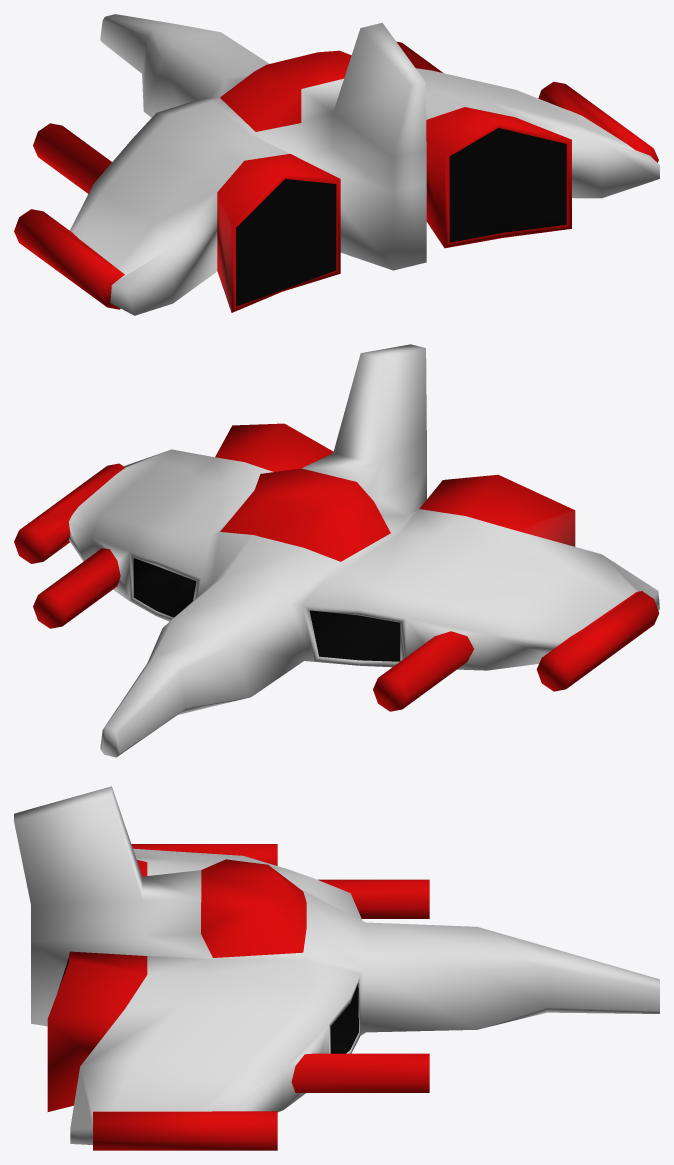
File: ship4lo.fbx
3 views of the same model, one above another, from view 1: azimuth 30°, elevation 25°; view 2: azimuth 150°, elevation 25°; view 3: azimuth 270°, elevation 25° (orthographic). The views are drawn at different scales.
Parts seen in each view (by area): view 1: Cube.001; view 2: Cube.001; view 3: Cube.001.
Part boxes in pixels (bbox=[...]): Cube.001: bbox=[14, 14, 659, 315]; Cube.001: bbox=[14, 344, 659, 757]; Cube.001: bbox=[14, 786, 659, 1150].
Size of the model in its own units: 2613 by 1009 by 2503.
